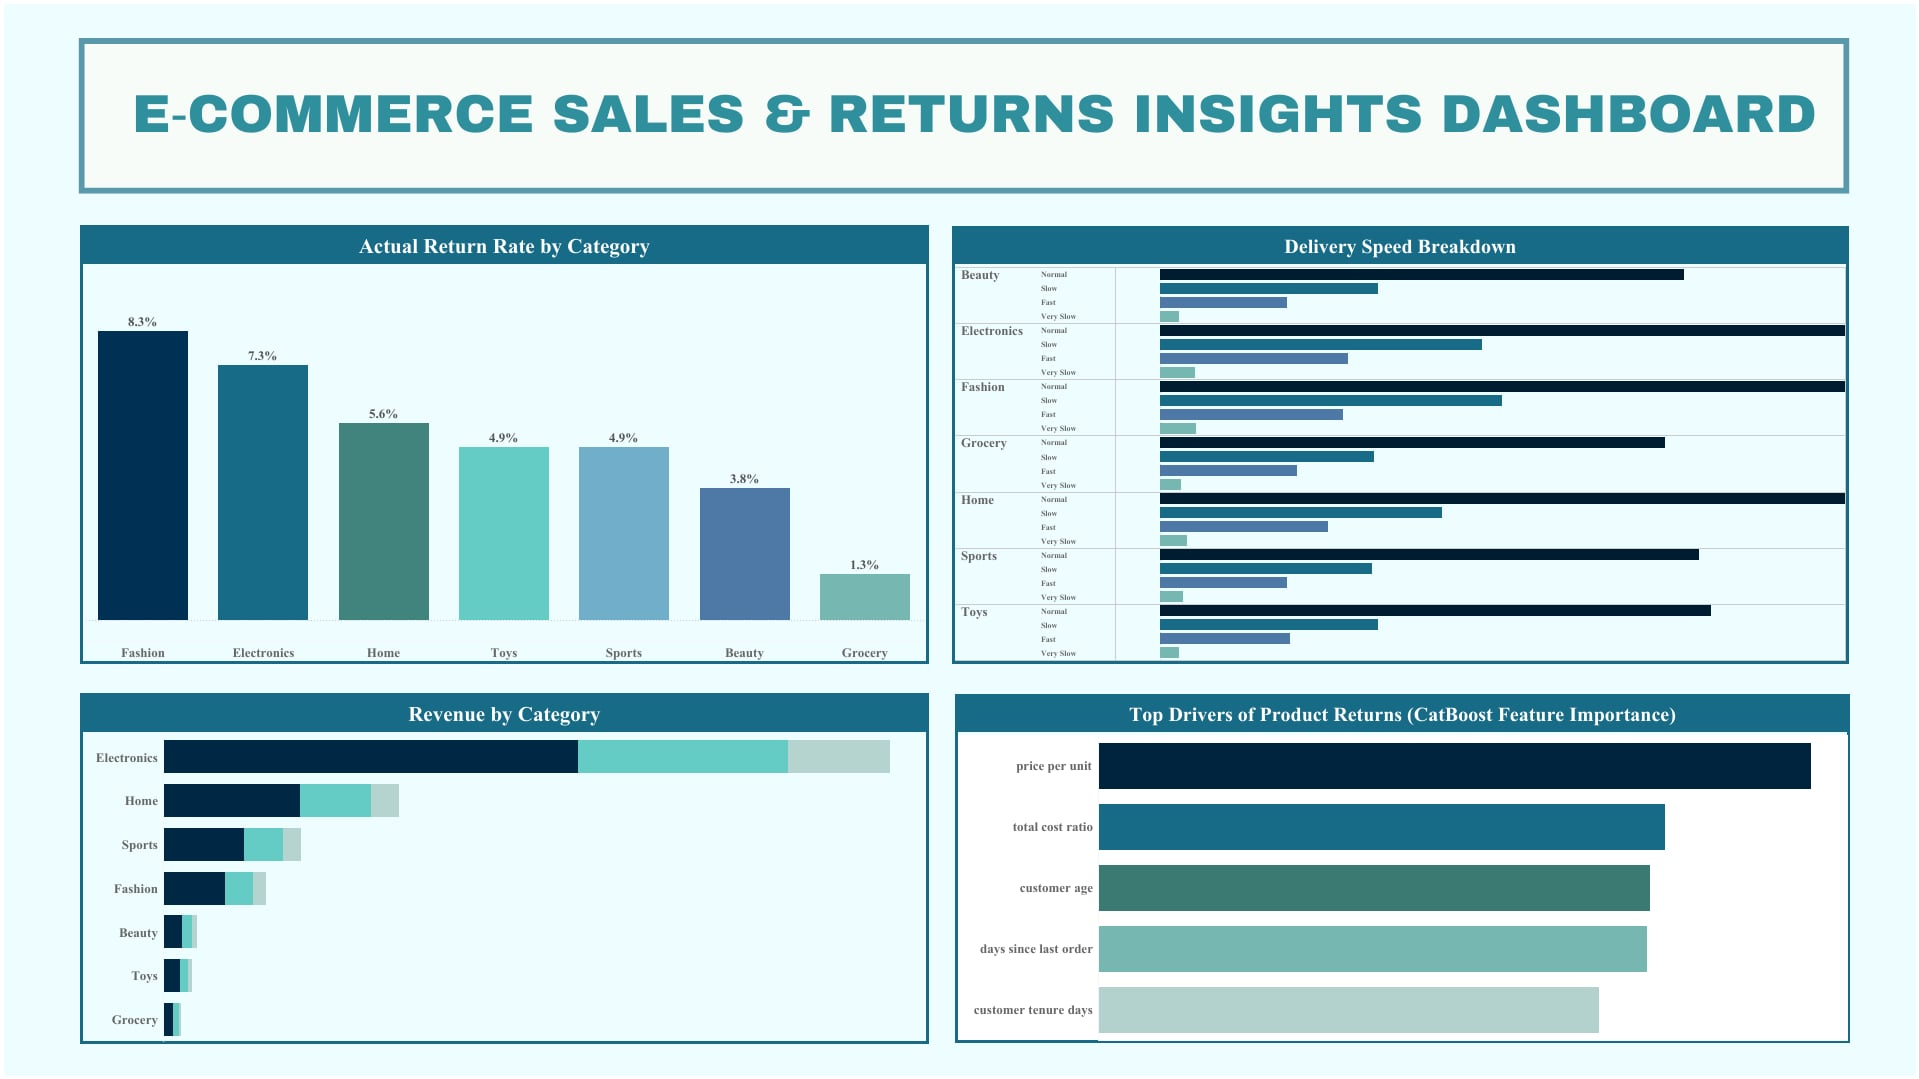

What the dashboard file says about the page in this screenshot:
{"tool":"tableau","page":{"name":"dashboard (2)","canvas":[1920,1080],"ordinal":1},"visuals":[{"type":"image","param":"Image/Group Project(1).png","box":[0,0,1920,1080]},{"type":"worksheet","title":"Actual Return Rate by Category","mark":"Automatic","rows":["returned_flag"],"cols":["category"],"box":[80,225,849,439]},{"type":"worksheet","title":"delivery speed breakdown","mark":"Bar","rows":["category","delivery_speed_bucket"],"cols":["order_id"],"box":[952,226,897,438]},{"type":"worksheet","title":"Sales by Category","mark":"Automatic","rows":["category"],"cols":["total_amount"],"box":[80,693,849,351]},{"type":"worksheet","title":"Feature importance (catboost)","mark":"Automatic","box":[955,694,895,349]}]}

Visuals, with their boxes in screenshot pixels (x1, y1, x2, y2), scaled from the page's 1920x1080 canvas onto the 1919x1079 screenshot:
image: bbox=[0, 0, 1918, 1078]
"Actual Return Rate by Category" worksheet: bbox=[80, 225, 929, 663]
"delivery speed breakdown" worksheet (Bar marks): bbox=[952, 226, 1848, 663]
"Sales by Category" worksheet: bbox=[80, 692, 929, 1043]
"Feature importance (catboost)" worksheet: bbox=[955, 693, 1849, 1042]
